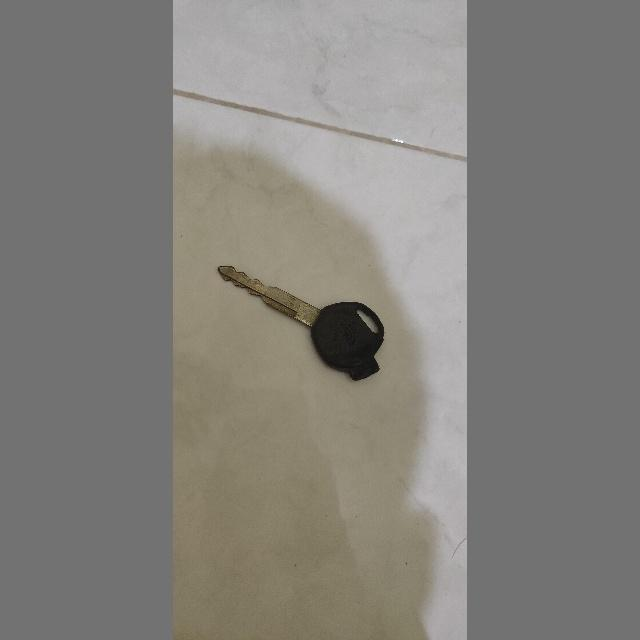Keys: (211, 248, 393, 388)
